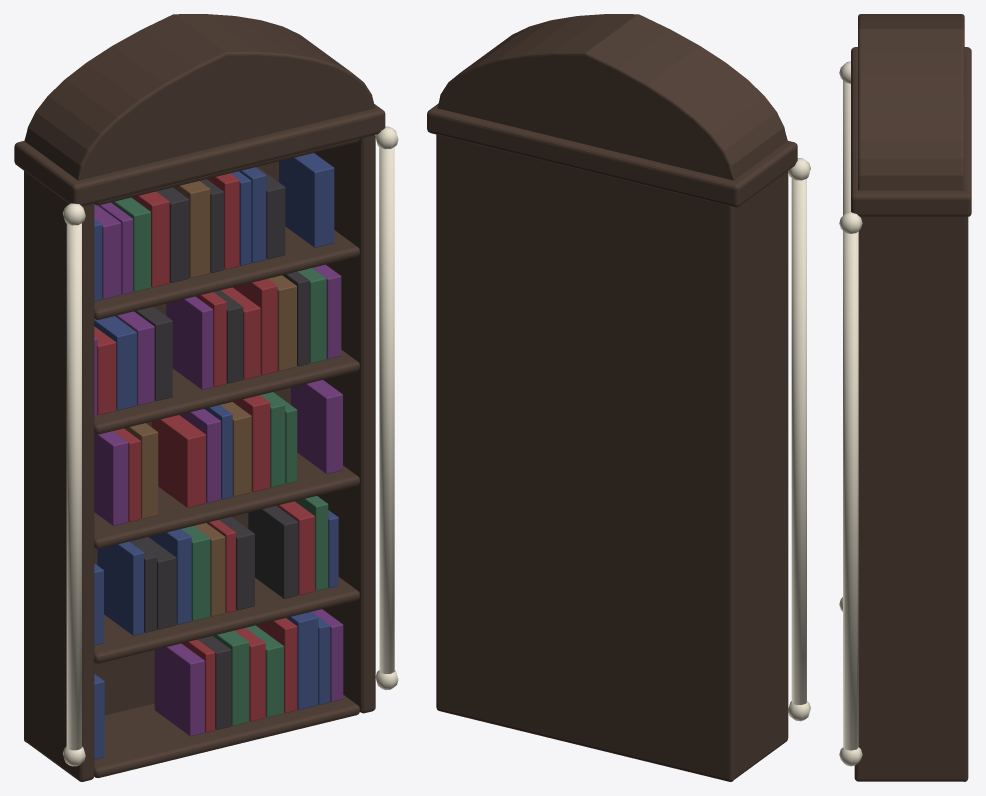
File: bookshelf_bone_trim.glb
3 renders of one model, left to right at view 1: azimuth 30°, elevation 25°; view 2: azimuth 150°, elevation 25°; view 3: azimuth 270°, elevation 25°, orthographic.
Visible parts, largest first — view 1: GD_bookshelf_bone_trim__m0, GD_bookshelf_bone_trim__m2, GD_bookshelf_bone_trim__m1, GD_bookshelf_bone_trim__m5, GD_bookshelf_bone_trim__m3, GD_bookshelf_bone_trim__m7, GD_bookshelf_bone_trim__m4, GD_bookshelf_bone_trim__m6; view 2: GD_bookshelf_bone_trim__m0, GD_bookshelf_bone_trim__m7; view 3: GD_bookshelf_bone_trim__m0, GD_bookshelf_bone_trim__m7.
Part boxes in pixels (x1,y1,x2,y2): GD_bookshelf_bone_trim__m0: (14, 14, 385, 781); GD_bookshelf_bone_trim__m2: (94, 173, 314, 732); GD_bookshelf_bone_trim__m1: (94, 202, 343, 736); GD_bookshelf_bone_trim__m5: (94, 153, 338, 759); GD_bookshelf_bone_trim__m3: (129, 166, 309, 729); GD_bookshelf_bone_trim__m7: (63, 126, 398, 766); GD_bookshelf_bone_trim__m4: (111, 197, 328, 725); GD_bookshelf_bone_trim__m6: (124, 181, 296, 616); GD_bookshelf_bone_trim__m0: (427, 14, 797, 781); GD_bookshelf_bone_trim__m7: (788, 158, 810, 721); GD_bookshelf_bone_trim__m0: (851, 14, 971, 781); GD_bookshelf_bone_trim__m7: (839, 61, 862, 766).
Bounding box in the file's own units: 1.07 × 2.12 × 0.373.
